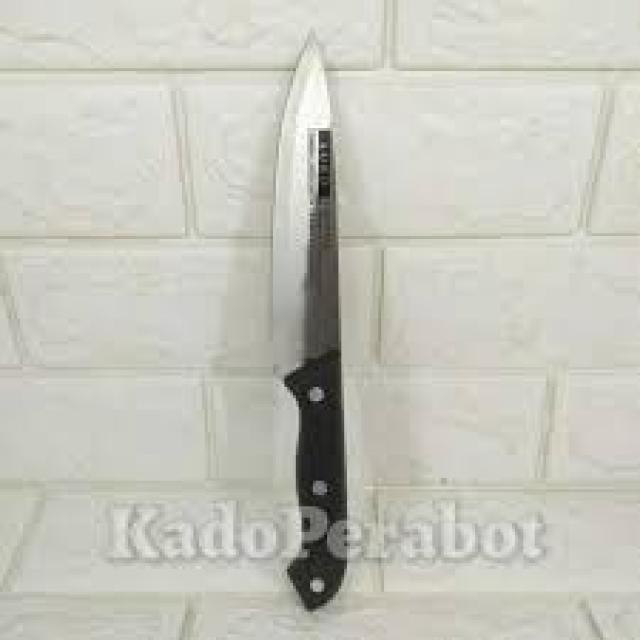Knife: (273, 31, 350, 609)
